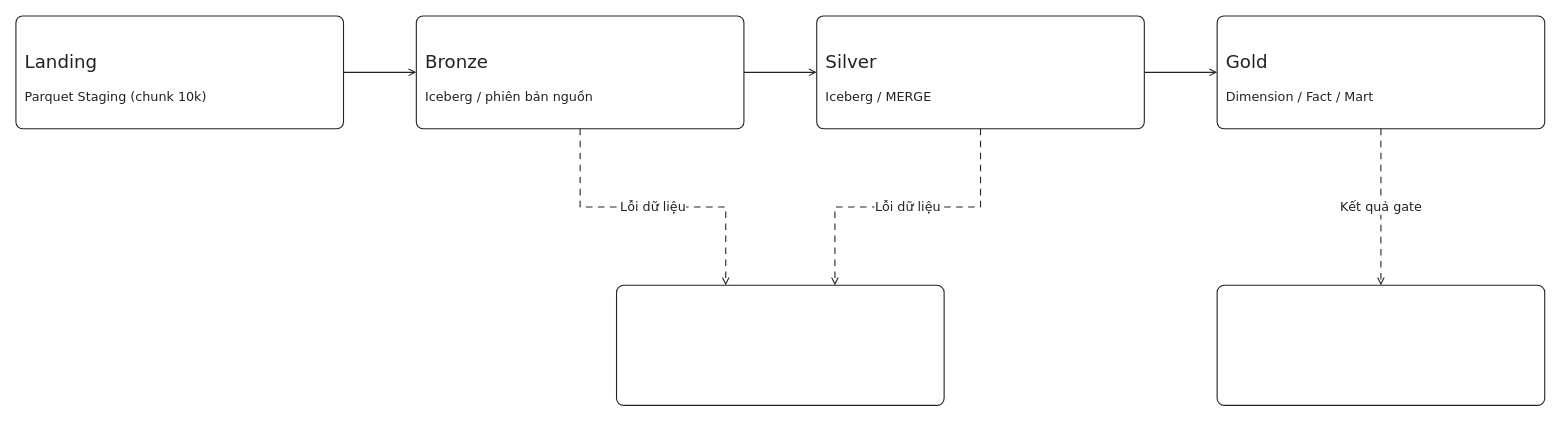
The diagram is 1562 pixels wide and 422 high, and some of its shapes have lost their labels. Here are the shapes that lost their labels. From the top down, the centre of each, then its label:
pixel 780 344: Quarantine
pixel 1380 344: system.data_quality_results
